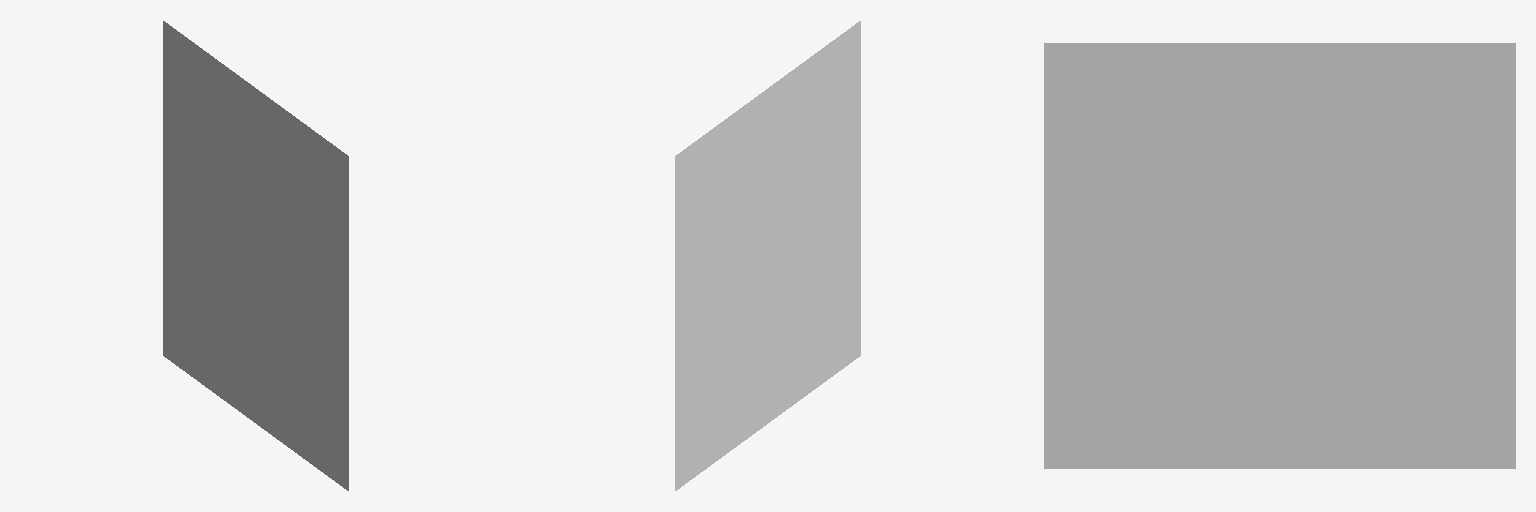
URDF robot description (room.urdf):
<?xml version="0.0" ?>
<robot name="room.urdf">
  <link name="baseLink">
    <contact>
      <lateral_friction value="0.8"/>
      <rolling_friction value="0.001"/>g
      <contact_cfm value="0.0"/>
      <contact_erp value="1.0"/>
    </contact>
    <inertial>
    <origin rpy="0 0 0" xyz="0.0 0.0 0.0"/>
       <mass value="100"/>
       <inertia ixx="1e-3" ixy="0" ixz="0" iyy="1e-3" iyz="0" izz="1e-3"/>
    </inertial>
    <visual>
      <geometry>
        <mesh filename="./simulation/wall.obj" scale="1 1 1"/>
      </geometry>
      <material name="white">
        <color rgba="1.0 1.0 1.0 1.0"/>
      </material>>
    </visual>
    <!-- <collision> -->
      <!-- <geometry> -->
        <!-- <mesh filename="room.obj" scale="1 1 1"/> -->
      <!-- </geometry> -->
    <!-- </collision> -->
  </link>
</robot>

--- Render facts (derived) ---
The picture shows the robot from 3 angles, left to right: view 1: azimuth 30°, elevation 25°; view 2: azimuth 150°, elevation 25°; view 3: azimuth 270°, elevation 25°; orthographic projection.
Model room.urdf with 1 links and 0 joints (none), rooted at baseLink, posed all joints at 0.
Visible links, largest first — view 1: baseLink; view 2: baseLink; view 3: baseLink.
Link boxes in pixels (x1=…): baseLink: x1=163, y1=21, x2=348, y2=490; baseLink: x1=675, y1=21, x2=860, y2=490; baseLink: x1=1044, y1=43, x2=1515, y2=468.
Size in the robot's own frame: 0 by 10 by 10 metres.
Meshes: 1 distinct files referenced, 1 mesh visuals loaded (1 OBJ).